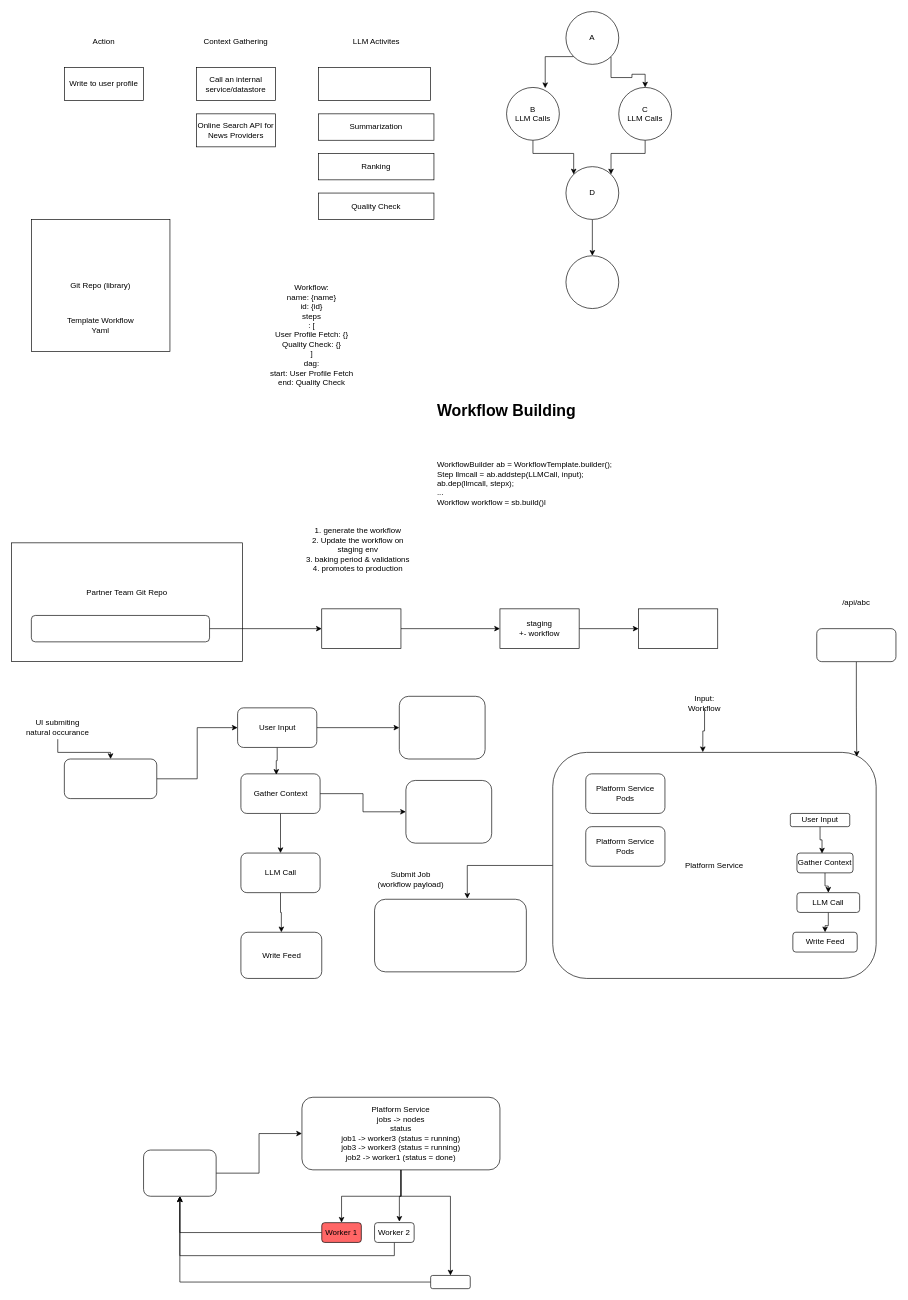
This 908x1300 diagram has some shape labels left out. The shapes that lost their labels are listed below. From the top down, each one's centre as x and y in pixels, then its label:
point 374,84: Content Generation
point 592,282: E LLM Calls
point 120,628: Commit to change the yaml
point 361,628: Github Action Worfklow
point 678,628: production
point 856,645: gateway
point 442,727: Profile Service + update user likes
point 110,778: User Understanding (LLM)
point 448,811: Search API
point 450,935: Batch Job
point 179,1172: etcd
point 450,1282: Worker 3
